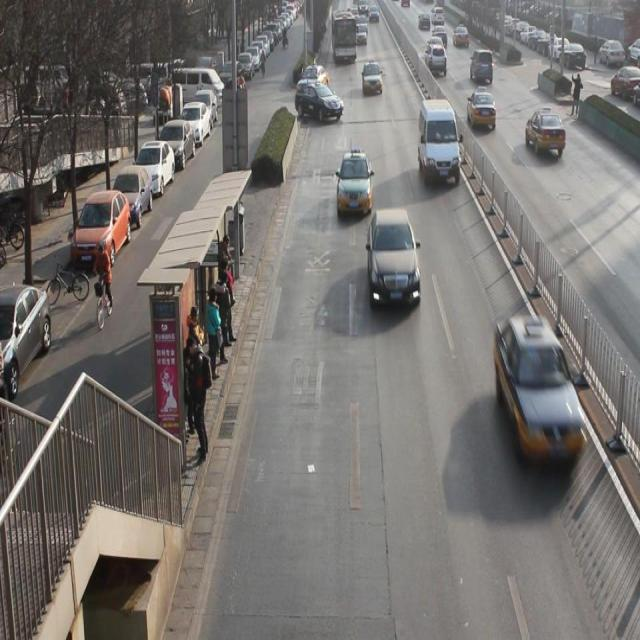car: (492, 314, 588, 469), (368, 215, 423, 315), (526, 108, 568, 162), (339, 150, 374, 214), (304, 85, 345, 126), (469, 94, 498, 126), (468, 49, 495, 82), (426, 45, 449, 81), (362, 60, 382, 96), (306, 61, 329, 92), (425, 36, 444, 58), (432, 25, 448, 46), (454, 26, 470, 47), (357, 23, 369, 45)
truck: (417, 98, 464, 188)
